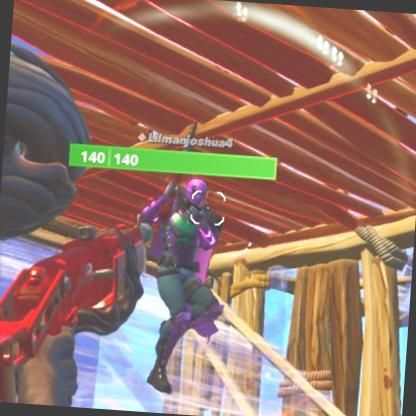person: (132, 170, 236, 398)
